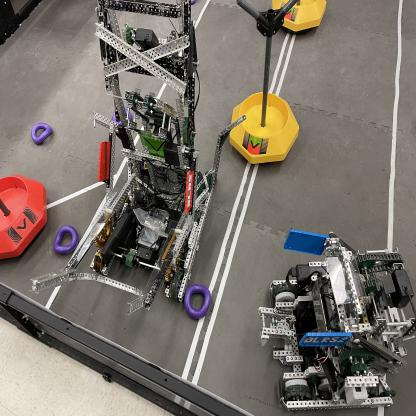ring: (181, 283, 213, 319), (53, 224, 78, 255), (30, 120, 53, 146), (110, 108, 133, 124), (190, 0, 196, 6)
